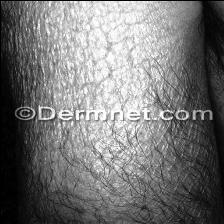Non-Cancerous Skin Condition: (13, 0, 187, 104)
